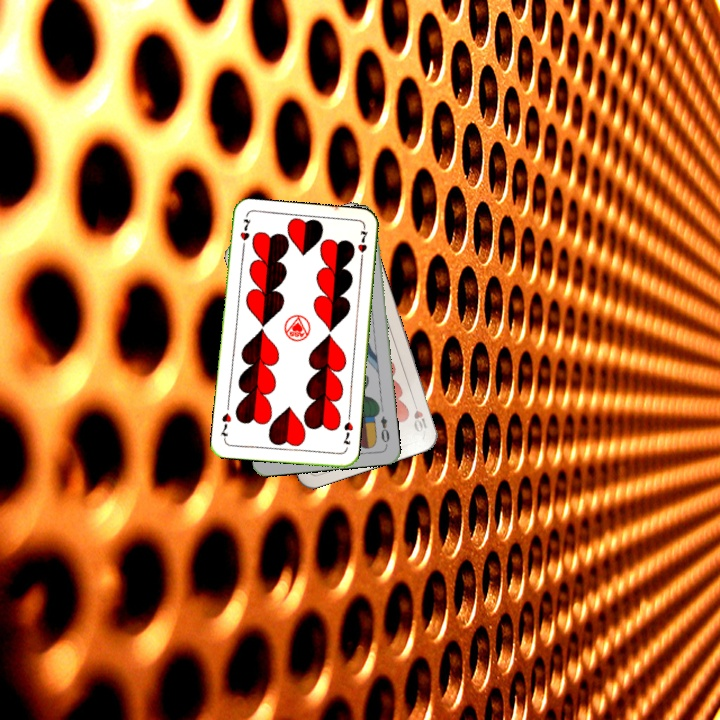EO: (377, 412, 392, 448)
H10: (409, 395, 430, 435)
H7: (236, 213, 253, 254), (339, 418, 356, 447)
